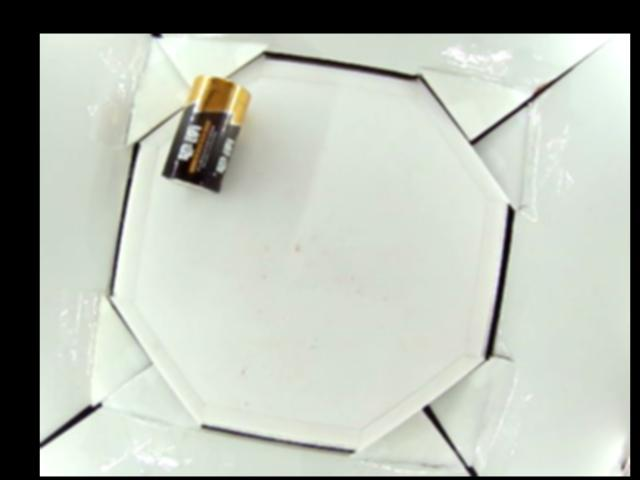Battery: (162, 72, 250, 193)
